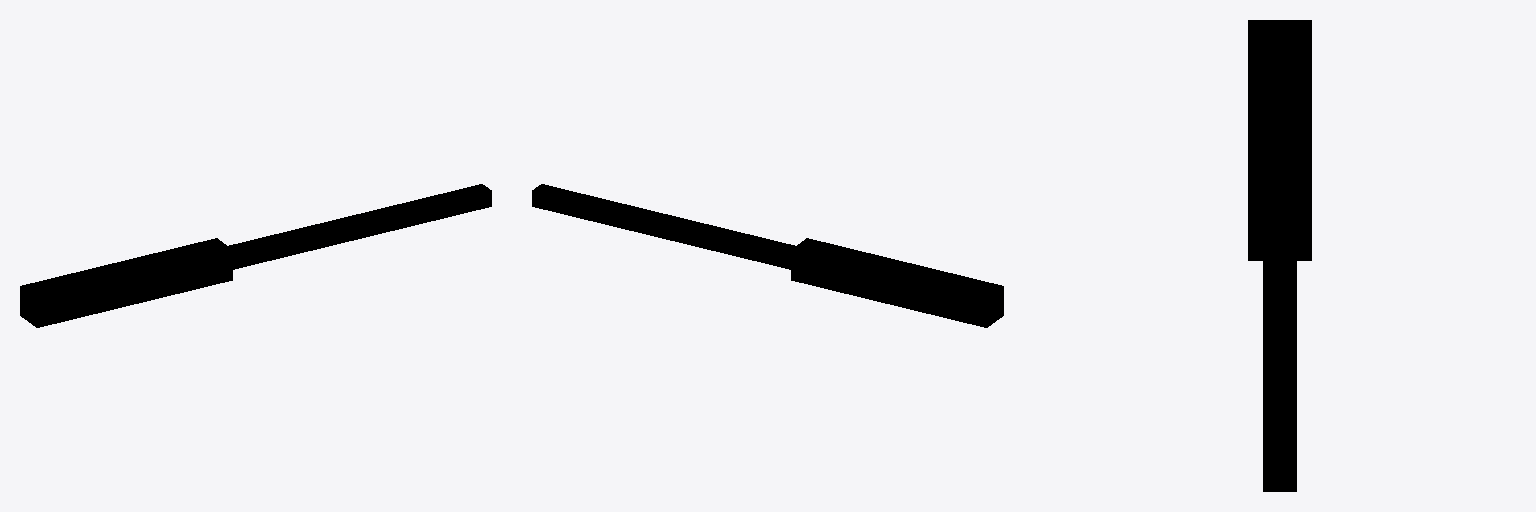
URDF robot description (2link_robot):
<?xml version='1.0' encoding='utf-8'?>
<robot name="2link_robot">
  <gazebo>
    <plugin filename="ign_ros2_control-system" name="ign_ros2_control::IgnitionROS2ControlPlugin">
      <parameters>[local-path]/xdaadbot_ws/install/daadbot_controller/share/daadbot_controller/config/effort_command_controller_2link.yaml</parameters>
    </plugin>
  </gazebo>
  <ros2_control name="TwoLinkRobotSystem" type="system">
    <hardware>
      <plugin>ign_ros2_control/IgnitionSystem</plugin>
    </hardware>
    <joint name="baseHinge">
      <command_interface name="effort">
        <param name="min">-50</param>
        <param name="max">50</param>
      </command_interface>
      <state_interface name="position" />
      <state_interface name="velocity" />
      <state_interface name="effort" />
    </joint>
    <joint name="interArm">
      <command_interface name="effort">
        <param name="min">-30</param>
        <param name="max">30</param>
      </command_interface>
      <state_interface name="position" />
      <state_interface name="velocity" />
      <state_interface name="effort" />
    </joint>
  </ros2_control>
  <material name="black">
    <color rgba="0 0 0 0.7" />
  </material>
  <material name="white">
    <color rgba="1 1 1 0.7" />
  </material>
  <link name="world" />
  <joint name="base_joint" type="fixed">
    <parent link="world" />
    <child link="base" />
    <origin rpy="0 0 0" xyz="0 0 0" />
  </joint>
  <link name="base">
    <inertial>
      <mass value="1.0" />
      <origin xyz="0 0 0" />
      <inertia ixx="0.1" ixy="0" ixz="0" iyy="0.1" iyz="0" izz="0.1" />
    </inertial>
  </link>
  <link name="arm1">
    <visual>
      <geometry>
        <box size="0.75 .11 .11" />
      </geometry>
      <origin rpy="0 0 0" xyz="0.375 0 0" />
      <material name="black" />
    </visual>
    <collision>
      <geometry>
        <box size="0.75 .11 .11" />
      </geometry>
      <origin rpy="0 0 0" xyz="0.375 0 0" />
    </collision>
    <inertial>
      <origin rpy="0 0 0" xyz="1.136250 0.000000 0.000000" />
      <mass value="3.000000" />
      <inertia ixx="0.001500" ixy="0.000000" ixz="0.000000" iyy="0.120000" iyz="0.000000" izz="0.120000" />
    </inertial>
  </link>
  <joint name="baseHinge" type="revolute">
    <axis rpy="0 0 0" xyz="0 0 1" />
    <limit effort="50.0" lower="-1000.0" upper="1000.0" velocity="1.0" />
    <parent link="base" />
    <child link="arm1" />
  </joint>
  <link name="arm2">
    <visual>
      <geometry>
        <box size="1 .06 .06" />
      </geometry>
      <origin rpy="0 0 0" xyz="0.5 0 0" />
      <material name="black" />
    </visual>
    <collision>
      <geometry>
        <box size="1 .06 .06" />
      </geometry>
      <origin rpy="0 0 0" xyz="0.5 0 0" />
    </collision>
    <inertial>
      <origin rpy="0 0 0" xyz="0.025000 0.000000 0.000000" />
      <mass value="0.750000" />
      <inertia ixx="0.000500" ixy="0.000000" ixz="0.000000" iyy="0.040000" iyz="0.000000" izz="0.040000" />
    </inertial>
  </link>
  <joint name="interArm" type="revolute">
    <axis rpy="0 0 0" xyz="0 0 1" />
    <limit effort="30.0" lower="-1000.0" upper="1000.0" velocity="1.0" />
    <parent link="arm1" />
    <child link="arm2" />
    <origin rpy="0 0 0" xyz="0.75 0 0" />
  </joint>
  <link name="endEffector">
    <inertial>
      <mass value="0.01" />
      <origin xyz="0 0 0" />
      <inertia ixx="0.0001" ixy="0" ixz="0" iyy="0.0001" iyz="0" izz="0.0001" />
    </inertial>
  </link>
  <joint name="ee_joint" type="fixed">
    <parent link="arm2" />
    <child link="endEffector" />
    <origin rpy="0 0 0" xyz="1 0 0" />
  </joint>
</robot>

--- Facts derived from the render (not from the file) ---
The picture shows the robot from 3 angles, left to right: view 1: azimuth 30°, elevation 25°; view 2: azimuth 150°, elevation 25°; view 3: azimuth 270°, elevation 25°; orthographic projection.
Model 2link_robot with 5 links and 4 joints (2 revolute, 2 fixed), rooted at world, posed every joint at zero.
Links seen in each view (by area): view 1: arm1, arm2; view 2: arm1, arm2; view 3: arm1, arm2.
Link boxes in pixels (x1=…): arm1: x1=20, y1=238, x2=232, y2=327; arm2: x1=228, y1=184, x2=491, y2=269; arm1: x1=791, y1=238, x2=1003, y2=327; arm2: x1=532, y1=184, x2=795, y2=269; arm1: x1=1248, y1=20, x2=1311, y2=260; arm2: x1=1263, y1=216, x2=1296, y2=491.
Size in the robot's own frame: 1.75 by 0.11 by 0.11 metres.
Geometry: primitives only (box / cylinder / sphere), no mesh files.
